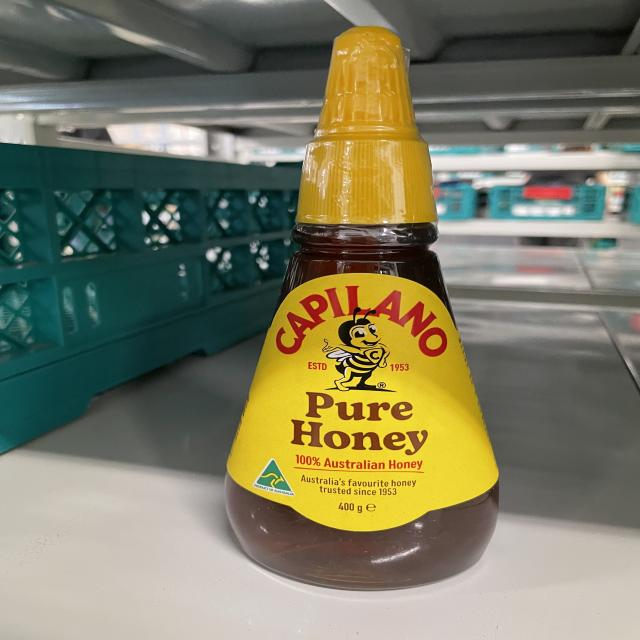object_name: (234, 28, 492, 594)
